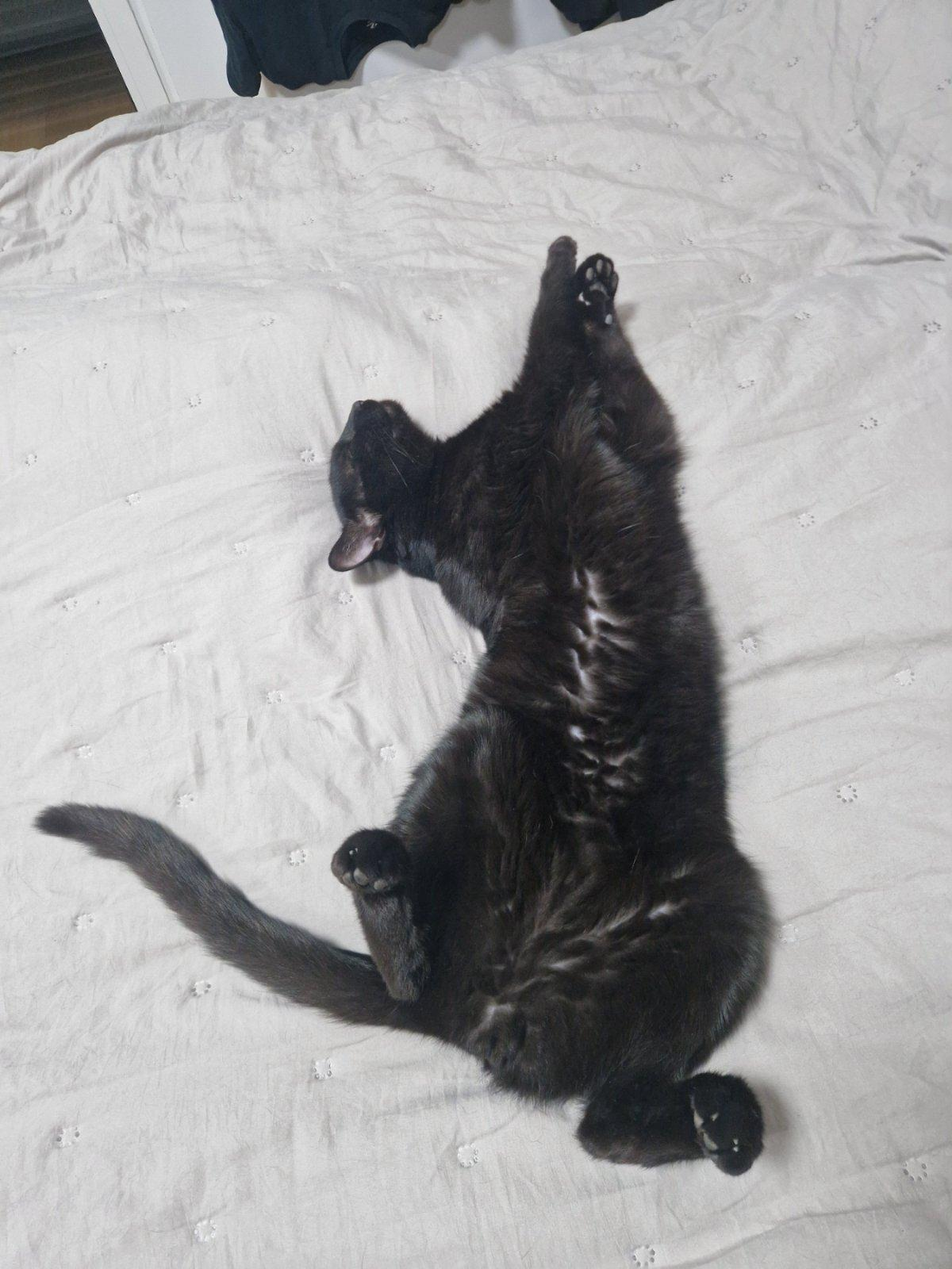macka: (32, 231, 772, 1176)
